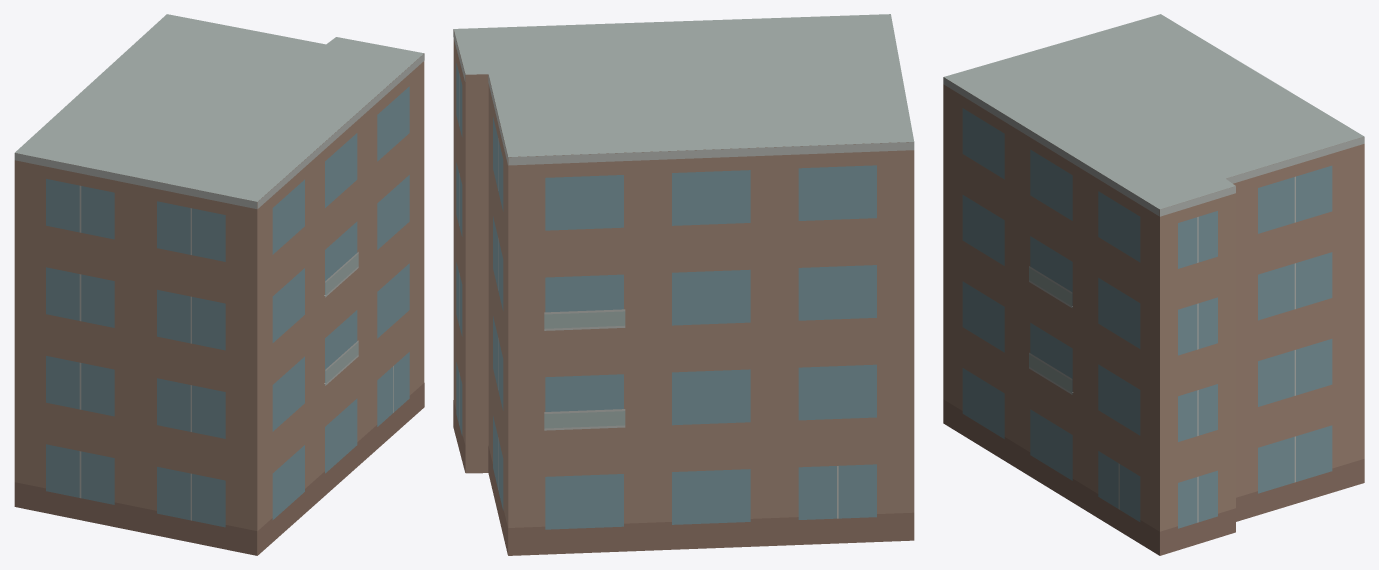
The model's file is survey-upis-32695153.glb.
3 renders of one model, left to right at view 1: azimuth 30°, elevation 25°; view 2: azimuth 150°, elevation 25°; view 3: azimuth 270°, elevation 25°, orthographic. The views are drawn at different scales.
Visible parts, largest first — view 1: survey-upis-32695153.tmp; view 2: survey-upis-32695153.tmp; view 3: survey-upis-32695153.tmp.
Part boxes in pixels (x1,y1,x2,y2): survey-upis-32695153.tmp: [14, 14, 424, 555]; survey-upis-32695153.tmp: [453, 14, 914, 555]; survey-upis-32695153.tmp: [943, 14, 1364, 555].
Size of the model in its own units: 14.11 by 11.65 by 12.84.
